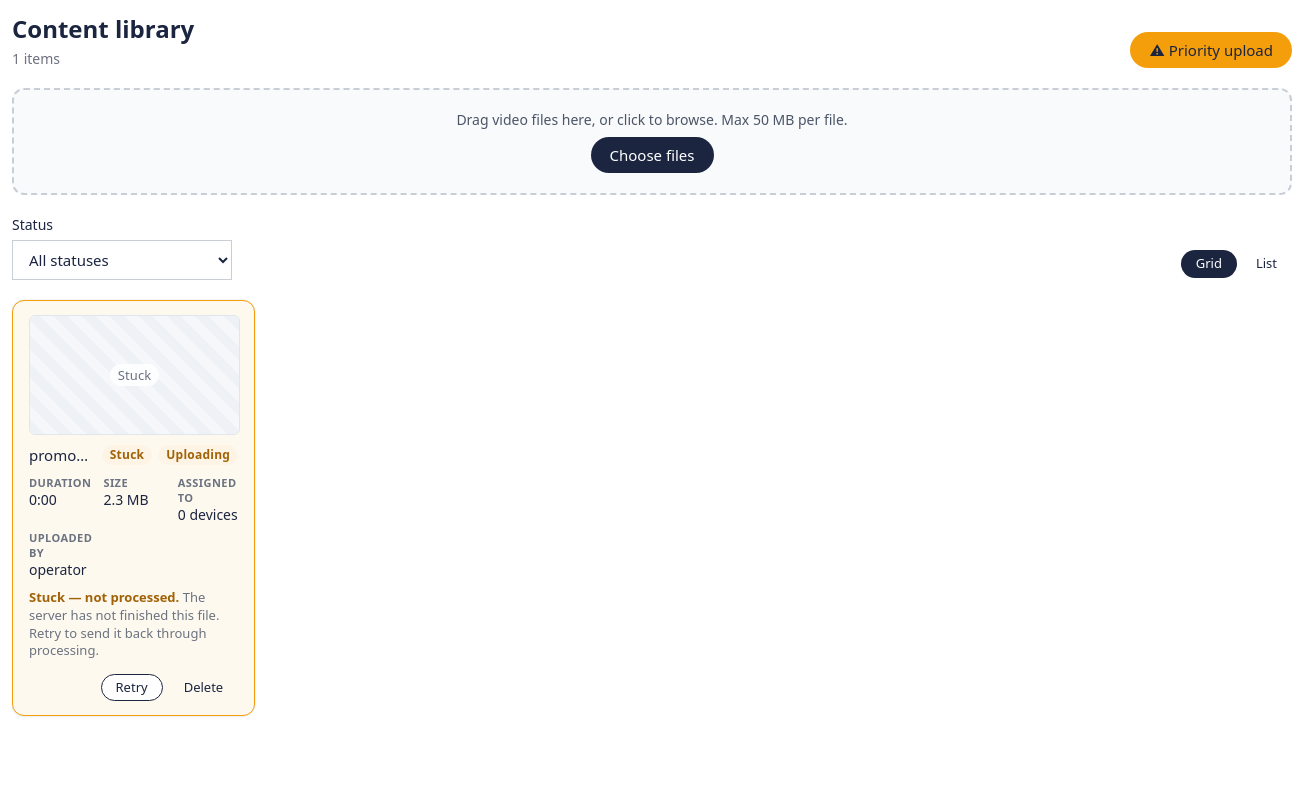
Test: ContentPage — Retry › renders the 409 envelope message VISIBLY on the card
Expected: the text "Stuck — not processed." is shown, [29,588,179,606]
Click the button "Retry".
click(132, 687)  # box [100,674,163,701]
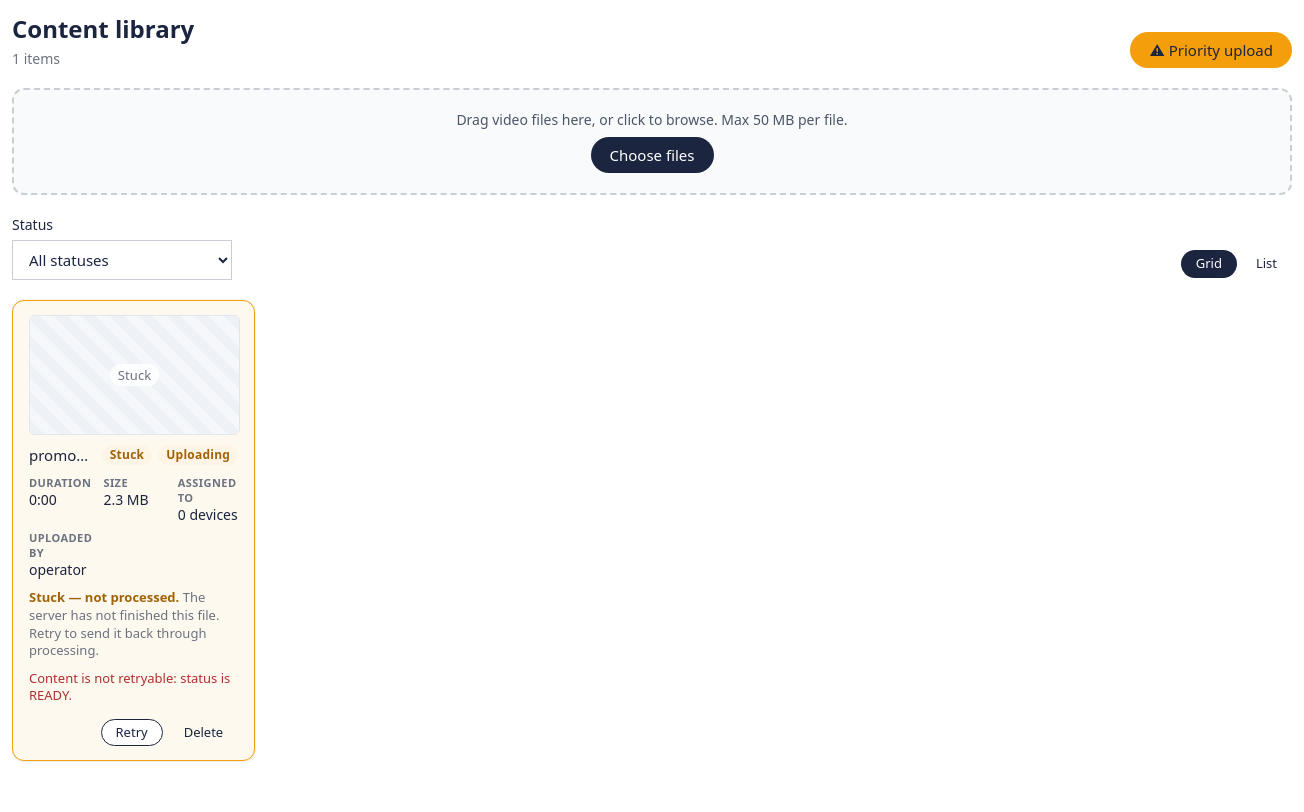
Now the message "Content is not retryable: status is READY." is shown, box [29,670,238,705]
